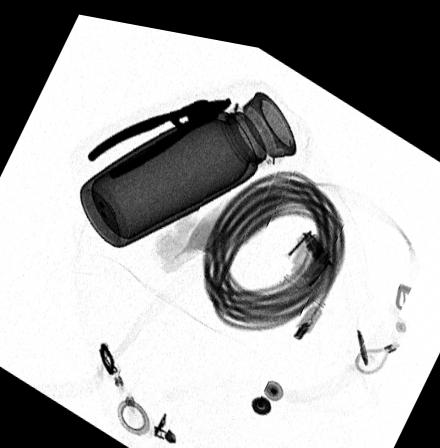Pliers: (86, 89, 232, 177)
